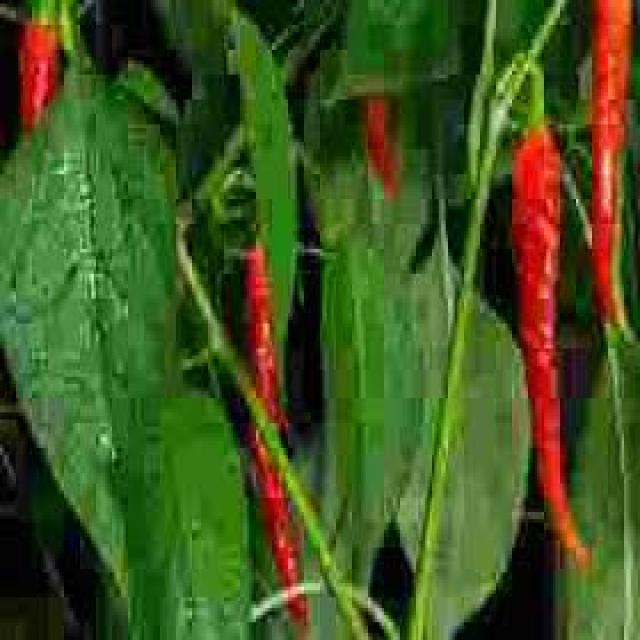sehat: (0, 81, 184, 632), (314, 213, 438, 590)
